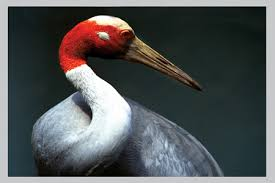seu_dau_do: (29, 14, 221, 175)
